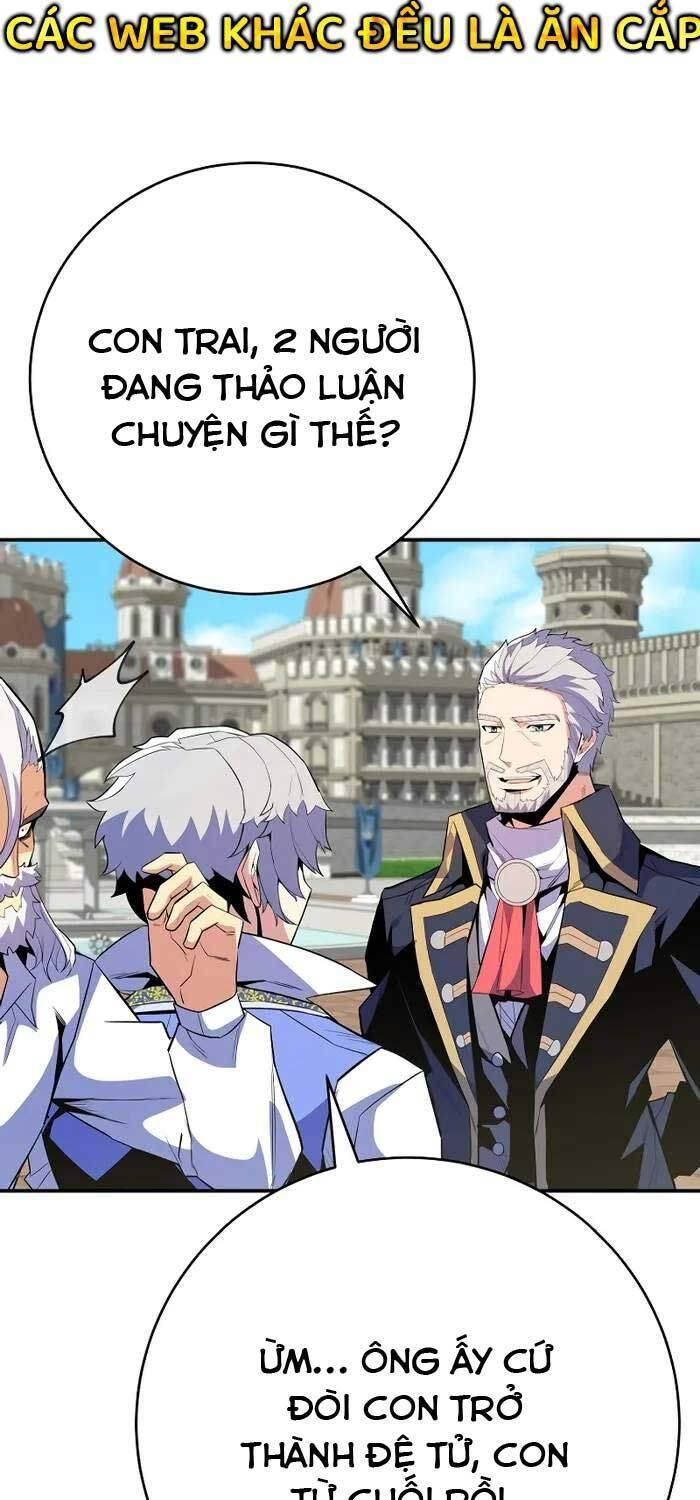quangcao: (0, 0, 700, 76)
